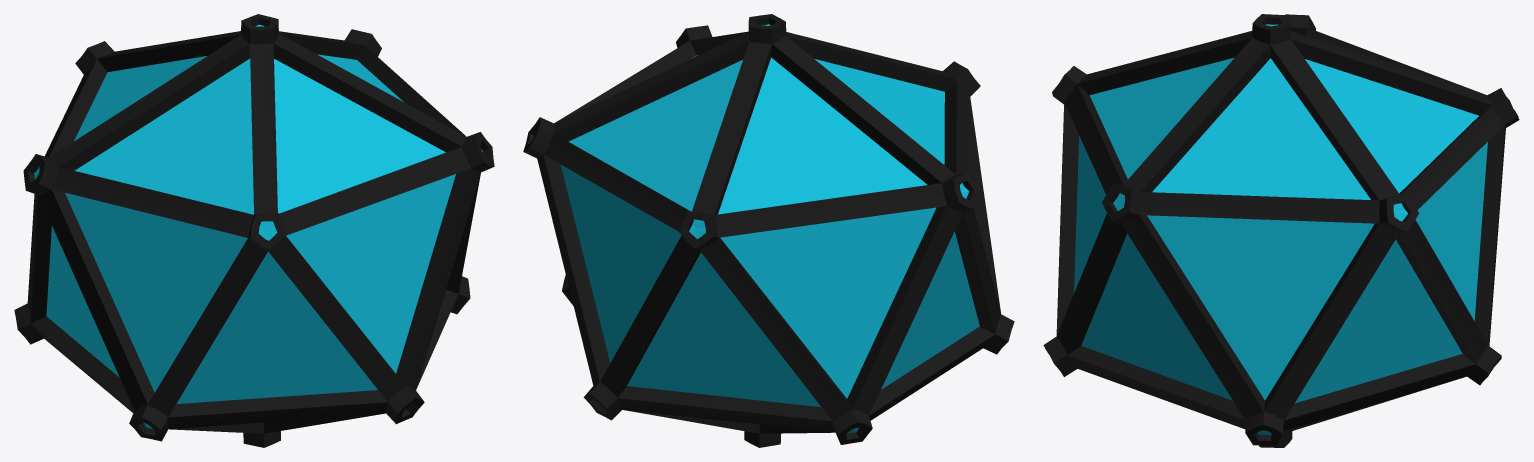
File: power up box2.fbx
3 views of the same model, side by side, from view 1: azimuth 30°, elevation 25°; view 2: azimuth 150°, elevation 25°; view 3: azimuth 270°, elevation 25° (orthographic).
Visible parts, largest first — view 1: Box001; view 2: Box001; view 3: Box001.
Part boxes in pixels (bbox=[...]): Box001: bbox=[14, 14, 494, 447]; Box001: bbox=[523, 14, 1014, 447]; Box001: bbox=[1043, 14, 1519, 447].
Bounding box in the file's own units: 84.63 × 79.55 × 81.84.
